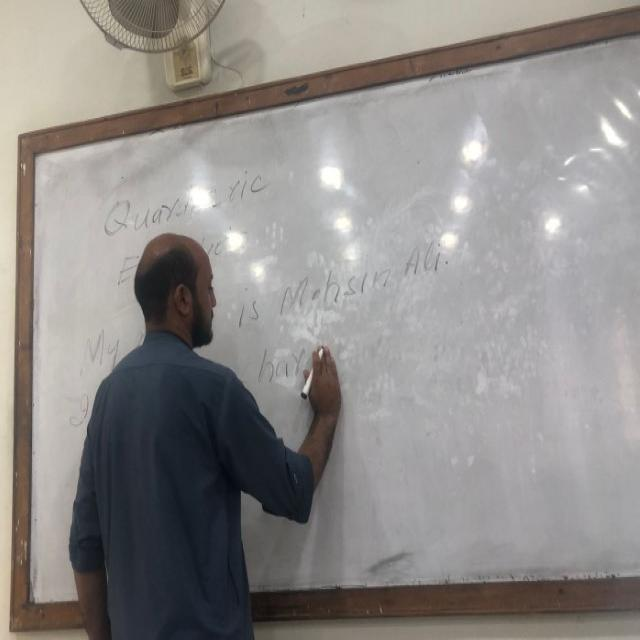Instructor: (89, 187, 243, 640)
White-board: (22, 11, 640, 619)
